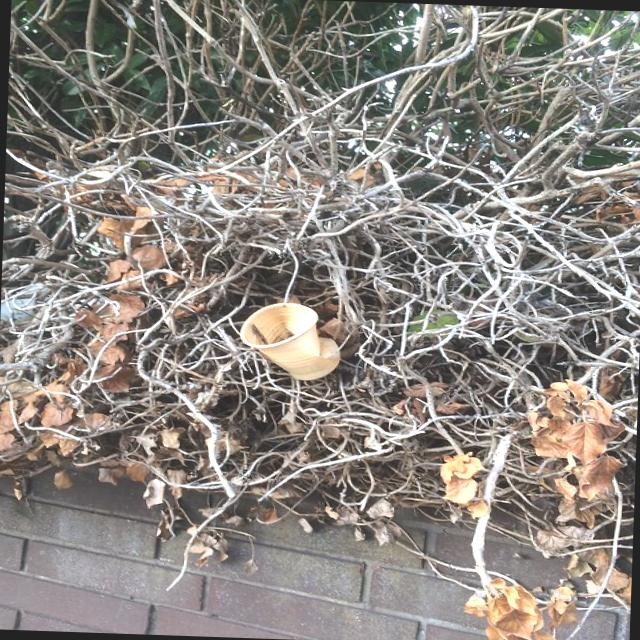Recycle: (238, 300, 343, 380)
